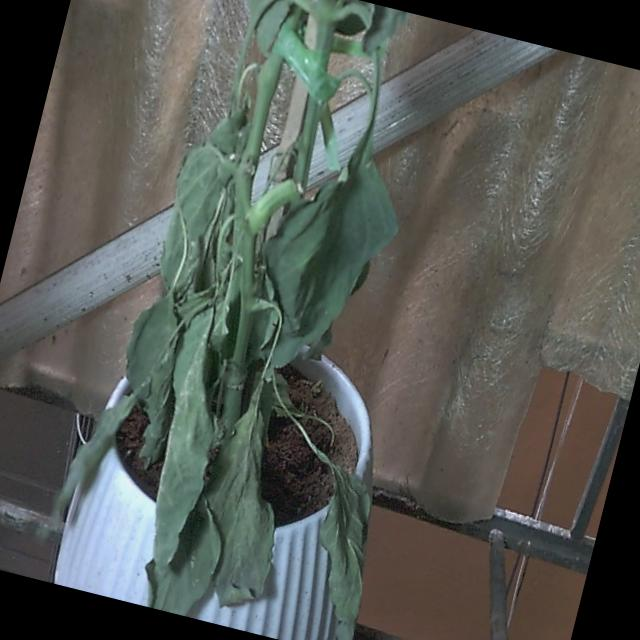Leaf: (178, 398, 312, 613), (289, 460, 396, 640)
